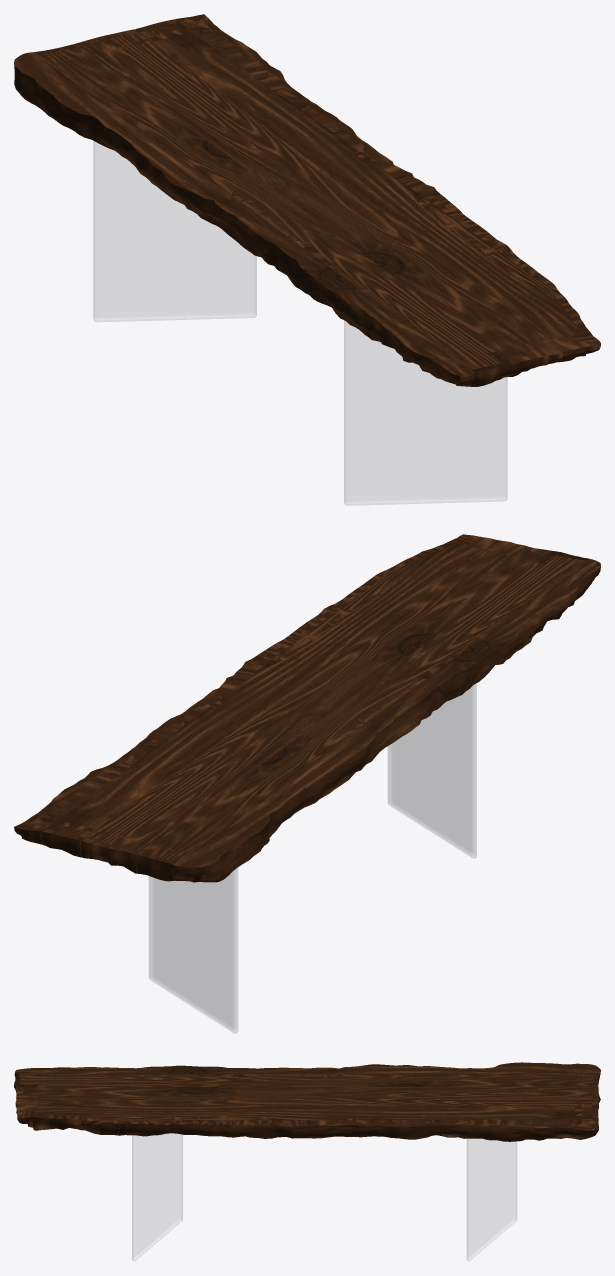
The model's file is Tavolo_lowpoly.glb.
The picture shows the model from 3 angles, top to bottom: view 1: azimuth 30°, elevation 25°; view 2: azimuth 150°, elevation 25°; view 3: azimuth 270°, elevation 25°; orthographic projection. The views are drawn at different scales.
Parts seen in each view (by area): view 1: Tavolo_asselegno_03, Gamba _vetro_1, Gamba _vetro_2, Tavolo_asselegno_04, Tavolo_asselegno_01, Tavolo_asselegno_02, Tavolo_asselegno_05, tappabuchi, Tavolo_asselegno_06; view 2: Tavolo_asselegno_03, Tavolo_asselegno_04, Tavolo_asselegno_01, Tavolo_asselegno_02, Gamba _vetro_2, Gamba _vetro_1, Tavolo_asselegno_05, tappabuchi, Tavolo_asselegno_06; view 3: Tavolo_asselegno_03, Tavolo_asselegno_04, Tavolo_asselegno_05, Tavolo_asselegno_02, Gamba _vetro_1, Gamba _vetro_2, Tavolo_asselegno_01, tappabuchi, Tavolo_asselegno_06.
Part boxes in pixels (<box>): Tavolo_asselegno_03: <box>76,29,565,377</box>; Gamba _vetro_1: <box>344,320,507,505</box>; Gamba _vetro_2: <box>93,141,256,321</box>; Tavolo_asselegno_04: <box>135,19,600,362</box>; Tavolo_asselegno_01: <box>14,52,474,386</box>; Tavolo_asselegno_02: <box>36,43,512,386</box>; Tavolo_asselegno_05: <box>175,14,565,298</box>; tappabuchi: <box>82,62,516,334</box>; Tavolo_asselegno_06: <box>231,192,475,366</box>; Tavolo_asselegno_03: <box>80,540,551,873</box>; Tavolo_asselegno_04: <box>41,534,498,857</box>; Tavolo_asselegno_01: <box>172,559,600,882</box>; Tavolo_asselegno_02: <box>136,551,588,881</box>; Gamba _vetro_2: <box>149,868,237,1033</box>; Gamba _vetro_1: <box>388,683,476,858</box>; Tavolo_asselegno_05: <box>14,562,401,844</box>; tappabuchi: <box>104,587,519,845</box>; Tavolo_asselegno_06: <box>350,560,577,730</box>; Tavolo_asselegno_03: <box>15,1086,600,1119</box>; Tavolo_asselegno_04: <box>16,1104,598,1134</box>; Tavolo_asselegno_05: <box>84,1118,598,1141</box>; Tavolo_asselegno_02: <box>14,1073,599,1089</box>; Gamba _vetro_1: <box>132,1133,182,1261</box>; Gamba _vetro_2: <box>467,1139,516,1261</box>; Tavolo_asselegno_01: <box>14,1062,600,1086</box>; tappabuchi: <box>103,1087,547,1121</box>; Tavolo_asselegno_06: <box>28,1074,343,1077</box>.
Bounding box in the file's own units: 0.7159 × 0.7562 × 2.68.
Materials: 3 (1 with a texture image).
